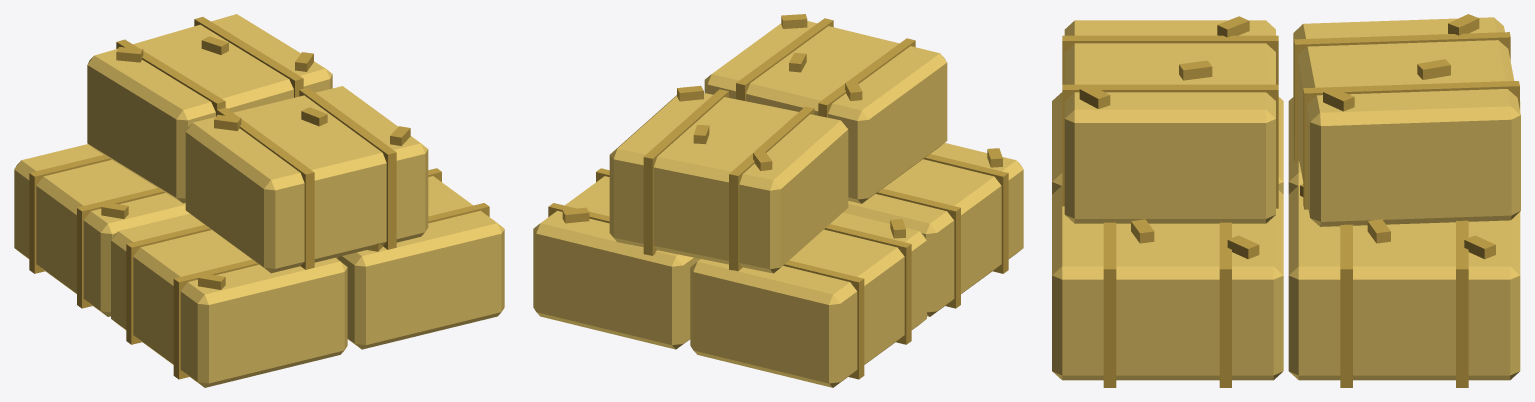
Rendered from Load_Hay.glb.
3 views of the same model, side by side, from view 1: azimuth 30°, elevation 25°; view 2: azimuth 150°, elevation 25°; view 3: azimuth 270°, elevation 25° (orthographic). The views are drawn at different scales.
Visible parts, largest first — view 1: Load_Hay_Mesh; view 2: Load_Hay_Mesh; view 3: Load_Hay_Mesh.
Boxes of the visible parts, box(x1,y1,x2,y2) form: Load_Hay_Mesh: box(14, 14, 504, 387); Load_Hay_Mesh: box(533, 14, 1023, 387); Load_Hay_Mesh: box(1052, 14, 1520, 387).
Size of the model in its own units: 1.74 by 1.05 by 1.86.
Materials: 1 (1 with a texture image).
